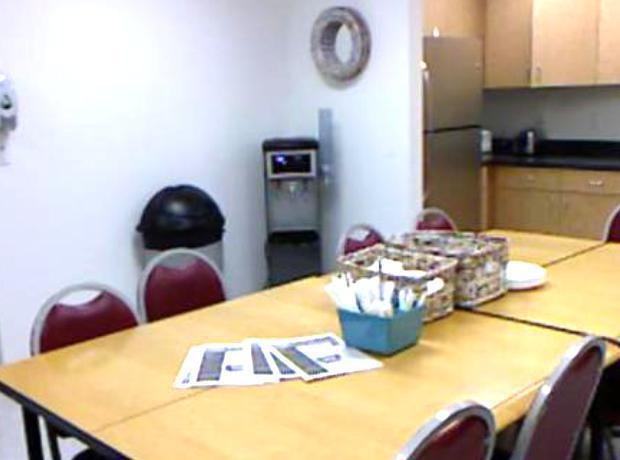Bote de Basura: (134, 185, 226, 361)
Electrodomestico: (422, 33, 485, 281)
